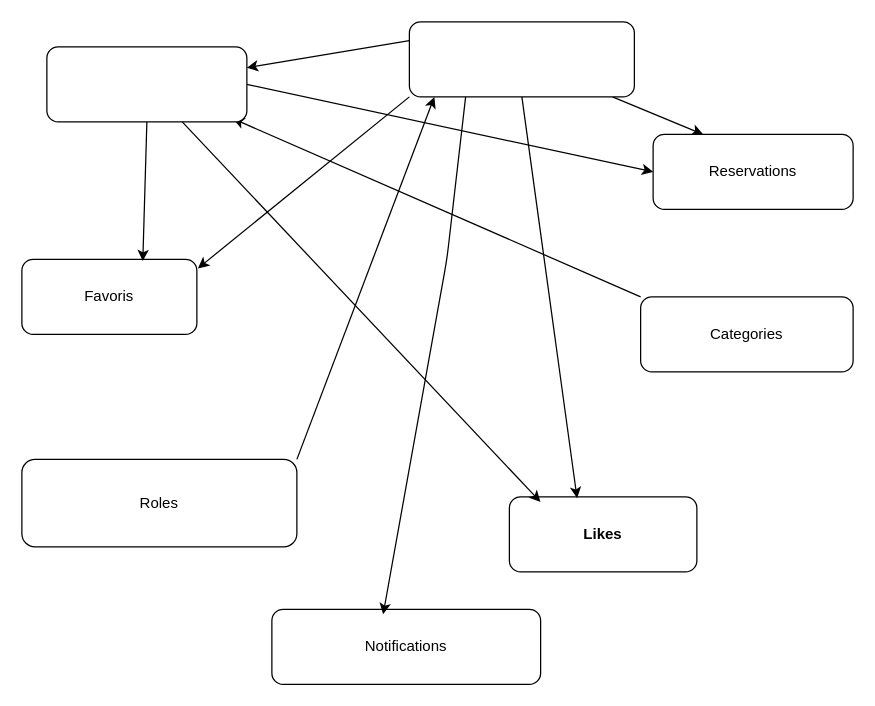
The diagram is 875 pixels wide and 706 high, and some of its shapes have lost their labels. The centre of each missing label's shape, as x and y in pixels:
Articles: (146,84)
Users: (521,59)
